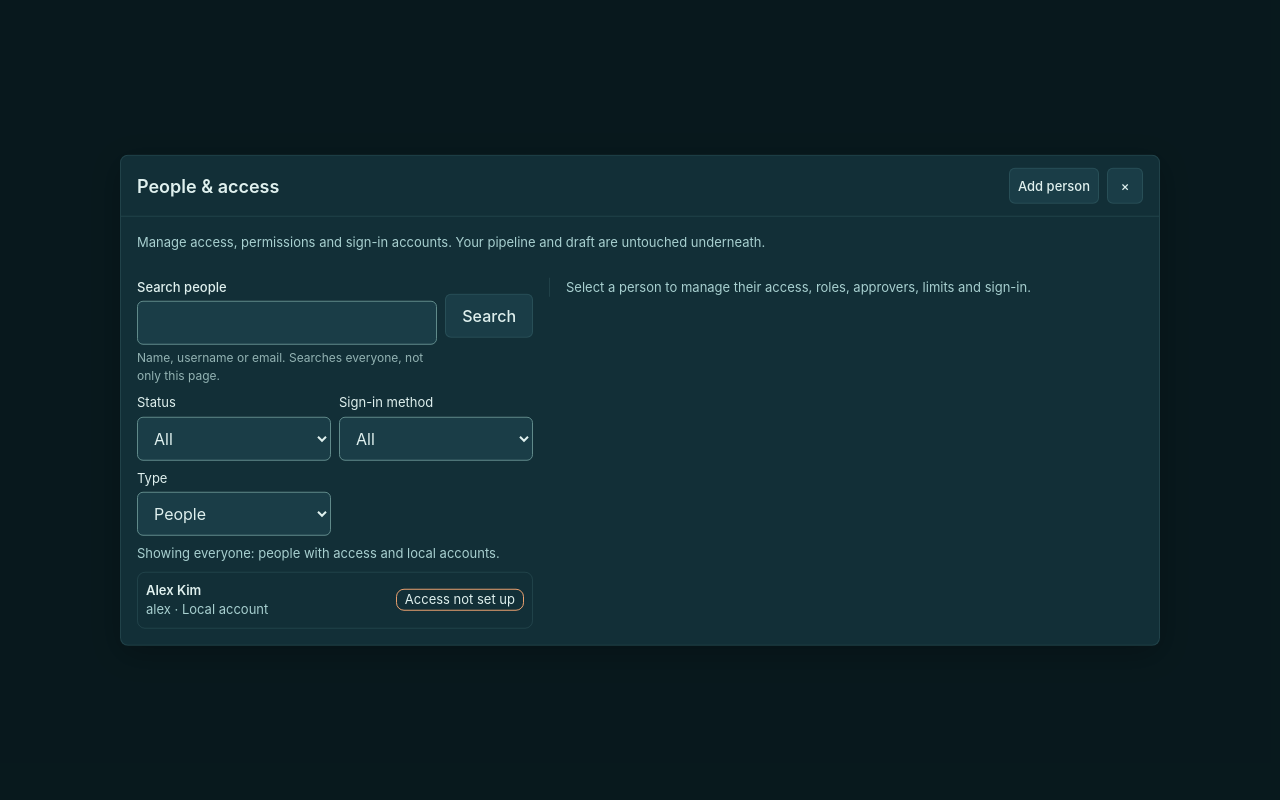
it: People & access journeys › keeps the account and retries only the access step when that step fails
Click the button "Alex Kim alex · Local account Access not set up".
click(174, 589)  # box x1=137 y1=571 x2=533 y2=628
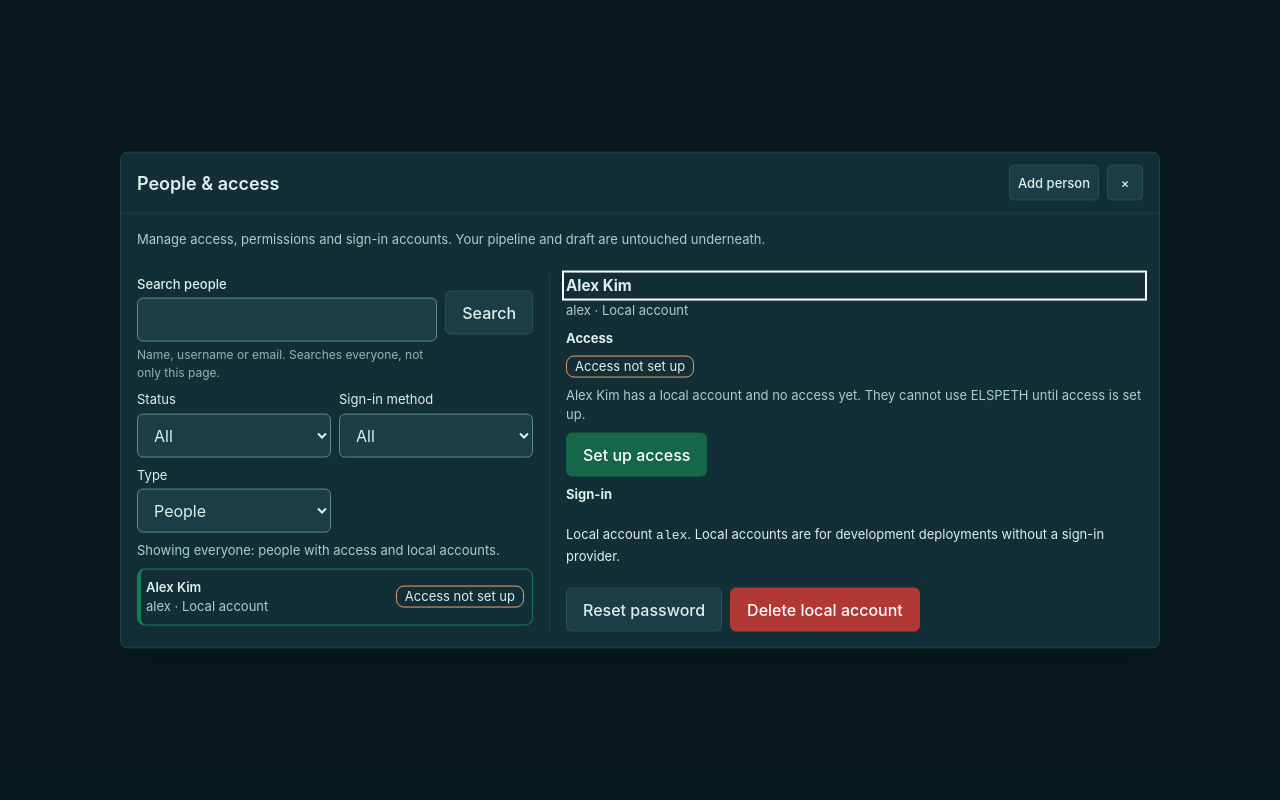
Click the button "Set up access".
click(637, 454)  # box x1=566 y1=432 x2=707 y2=476
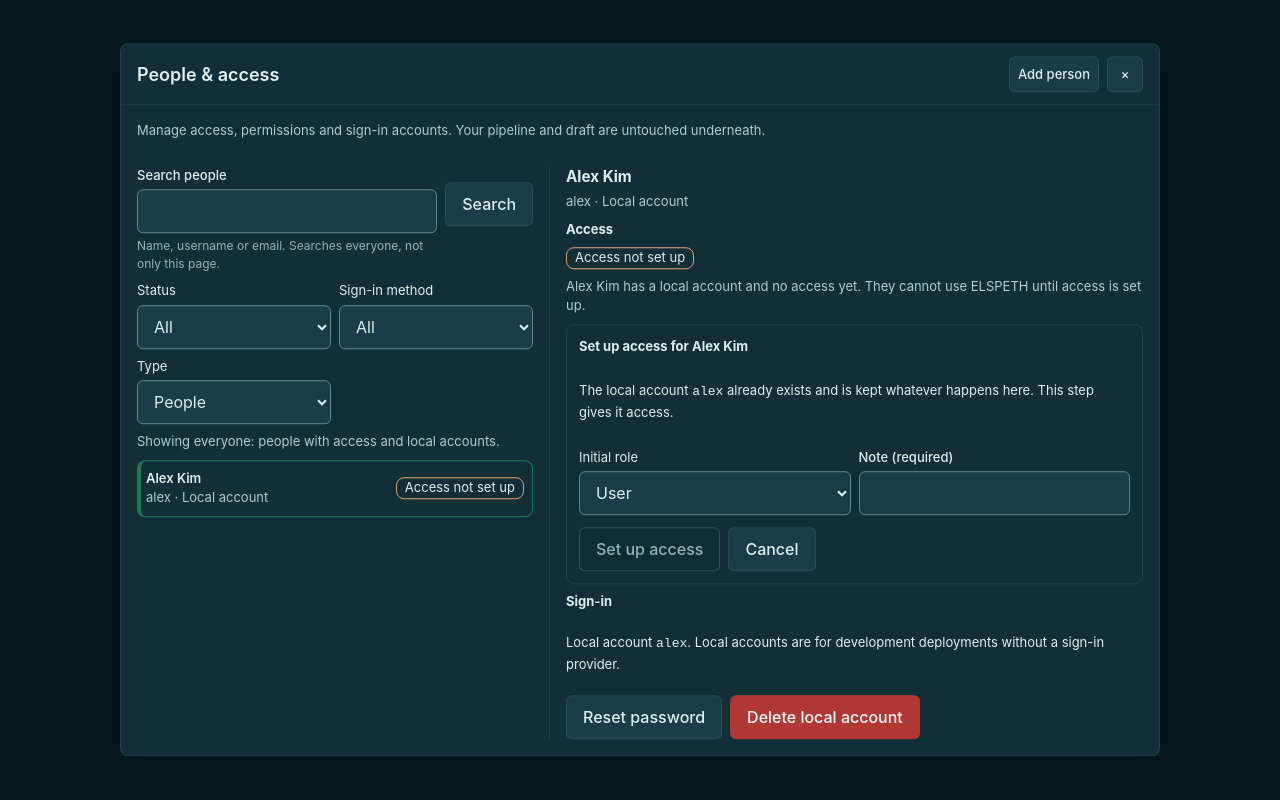
Type "new starter" into the field labelled "Note (required)".
click(994, 494); type("new starter")  # box x1=858 y1=472 x2=1130 y2=516
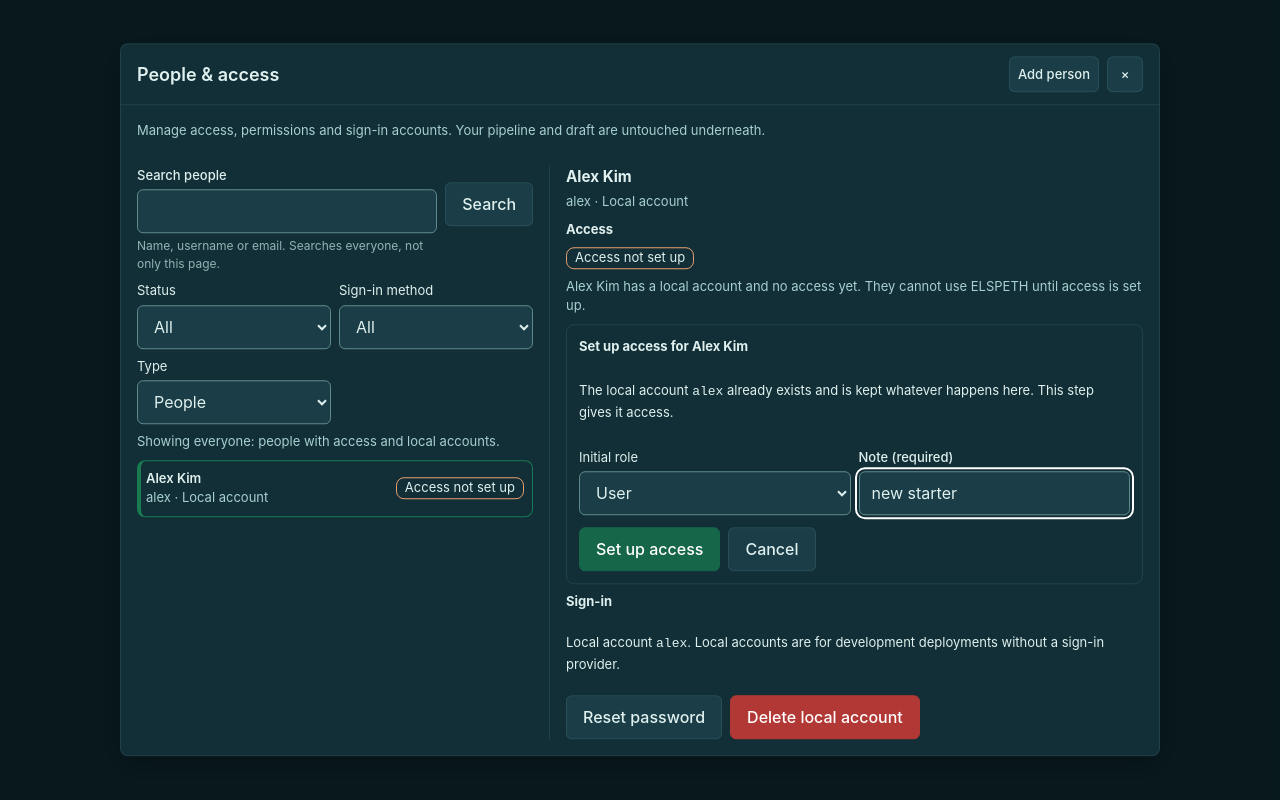
Click the button "Set up access".
click(650, 550)  # box x1=579 y1=528 x2=720 y2=572
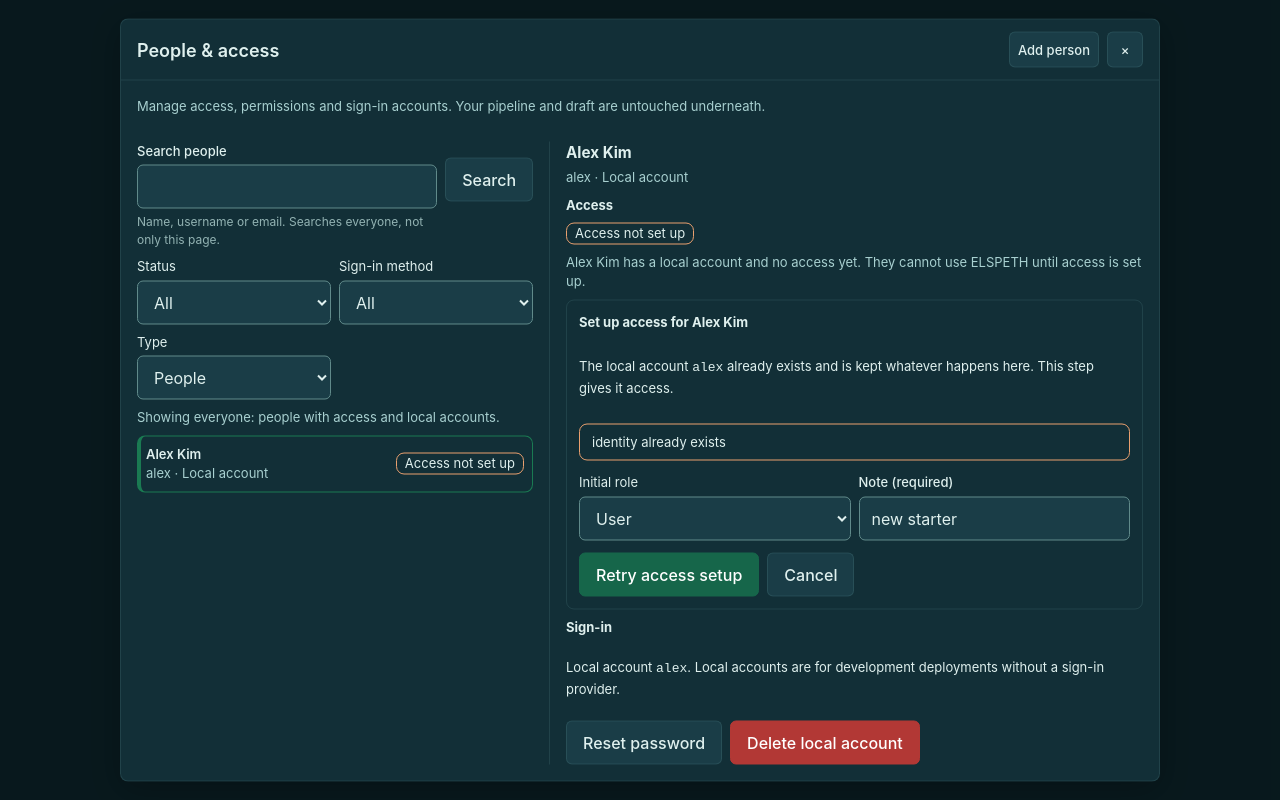
Now the text "already exists and is kept whatever happens here" is shown, box x1=579 y1=358 x2=1094 y2=396
Now the button "Retry access setup" is enabled, box x1=579 y1=552 x2=759 y2=596
Now the message reads "identity already exists", box x1=592 y1=433 x2=726 y2=449
